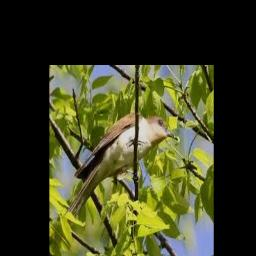Cuckoo: (64, 114, 178, 230)
